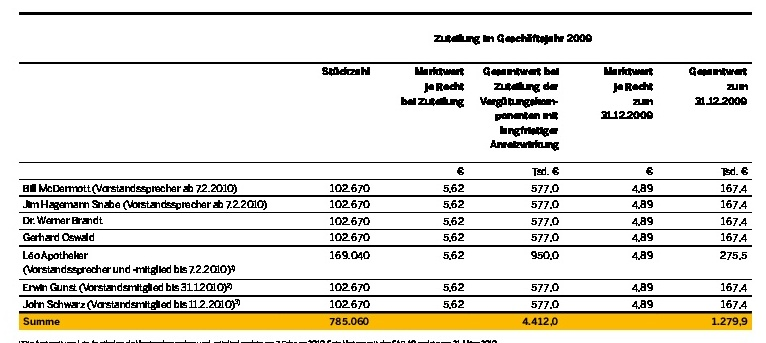table: (0, 0, 766, 343)
